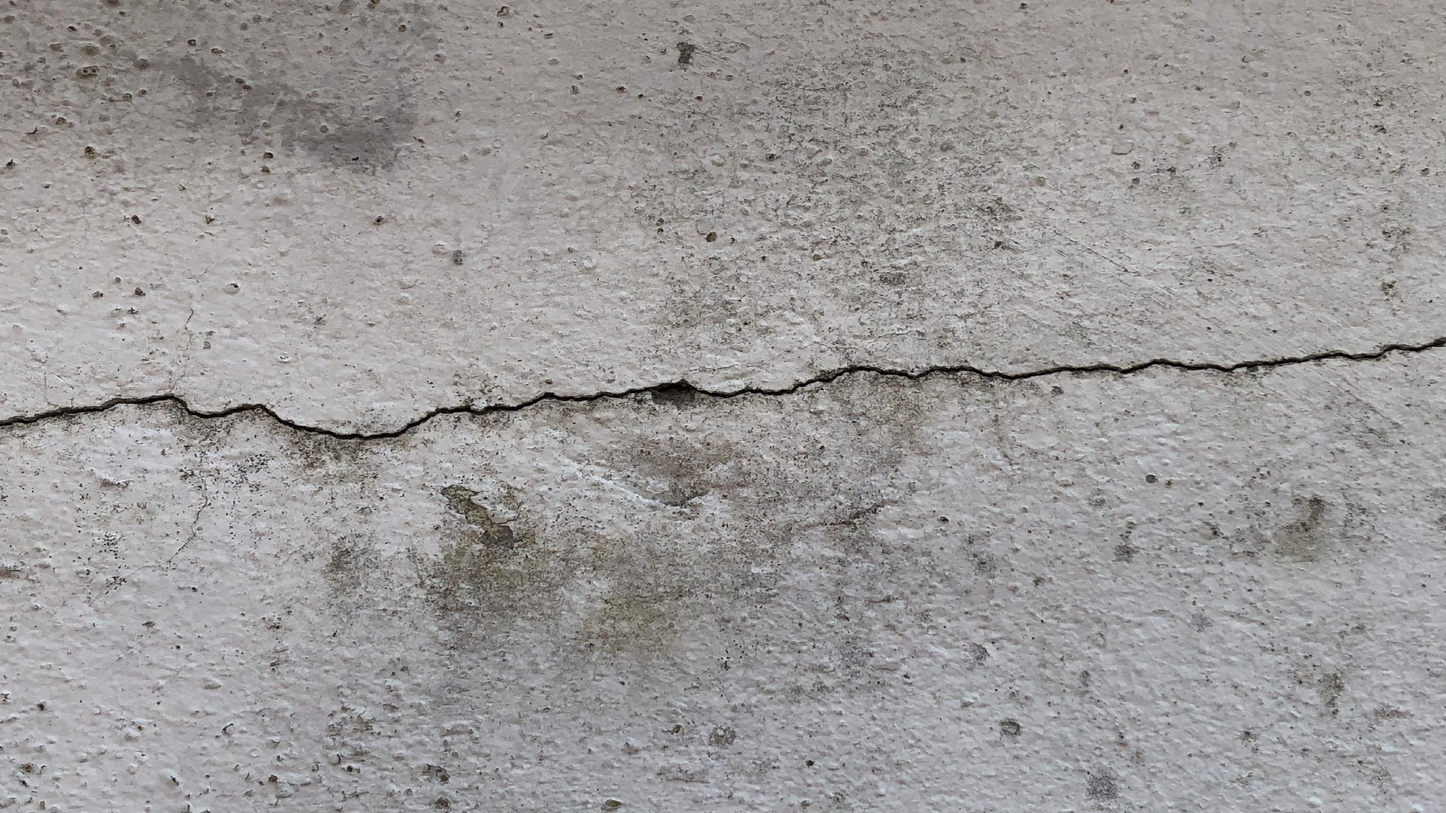crack: (1, 339, 1445, 441)
